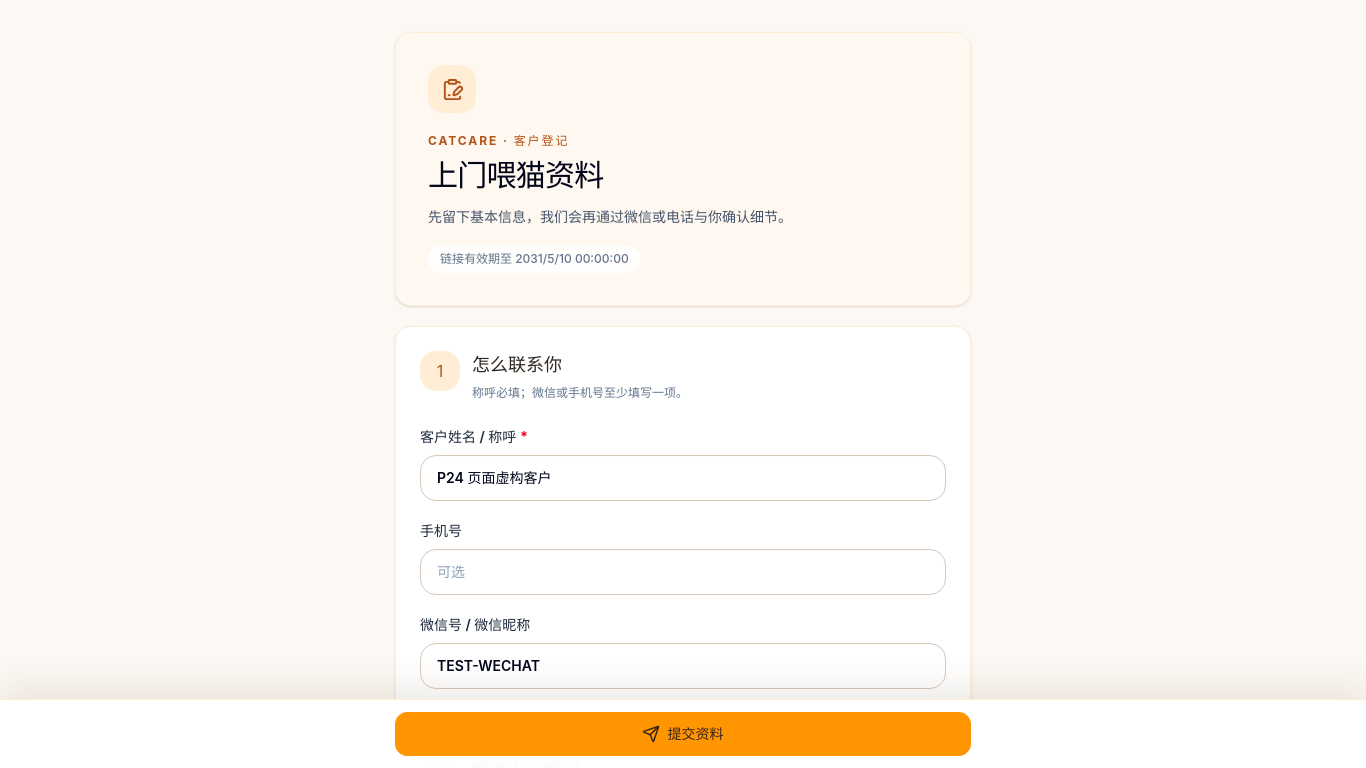
it: returns from confirmation without submitting
Expected: the field showing "P24 页面虚构客户" is shown, x1=420 y1=455 x2=946 y2=501
Click the button "提交资料": (683, 734) x1=395 y1=712 x2=971 y2=756
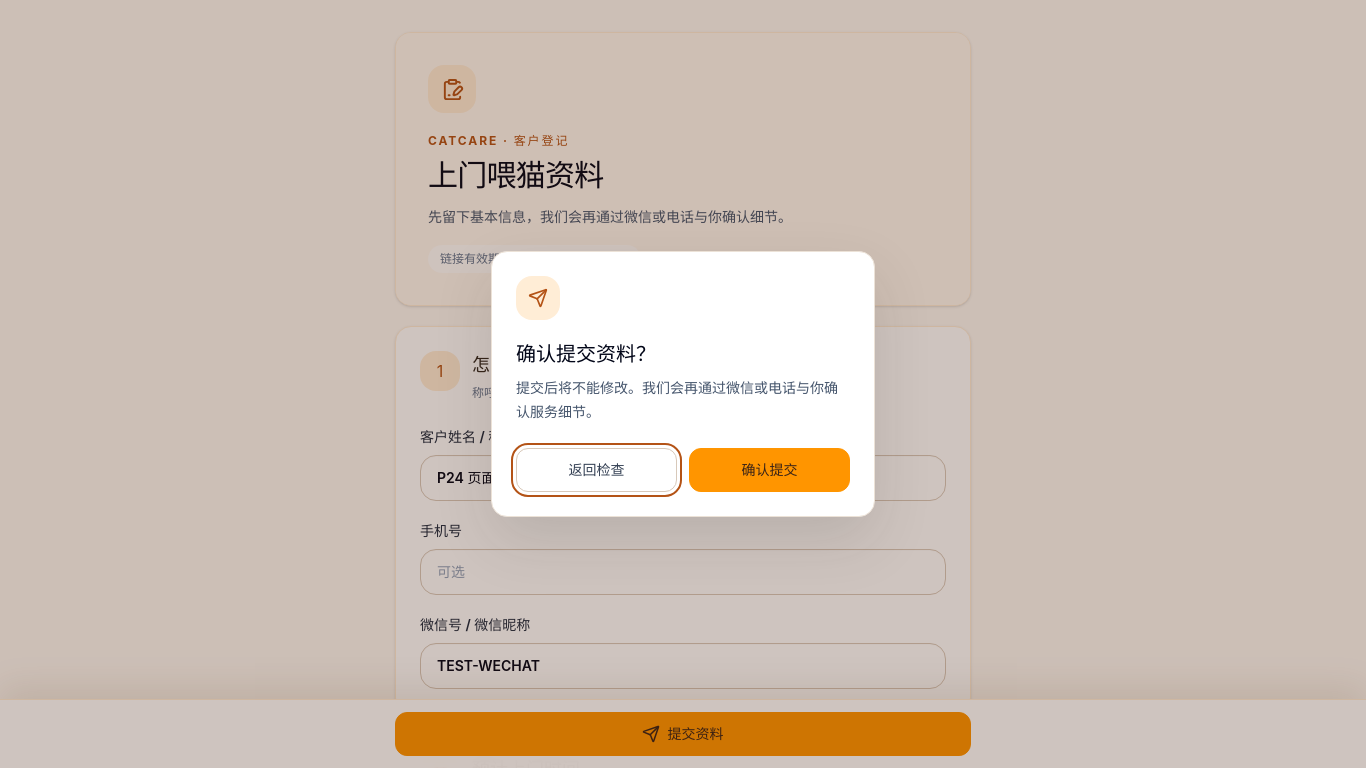
Click the button "返回检查": (596, 470) x1=516 y1=448 x2=677 y2=492
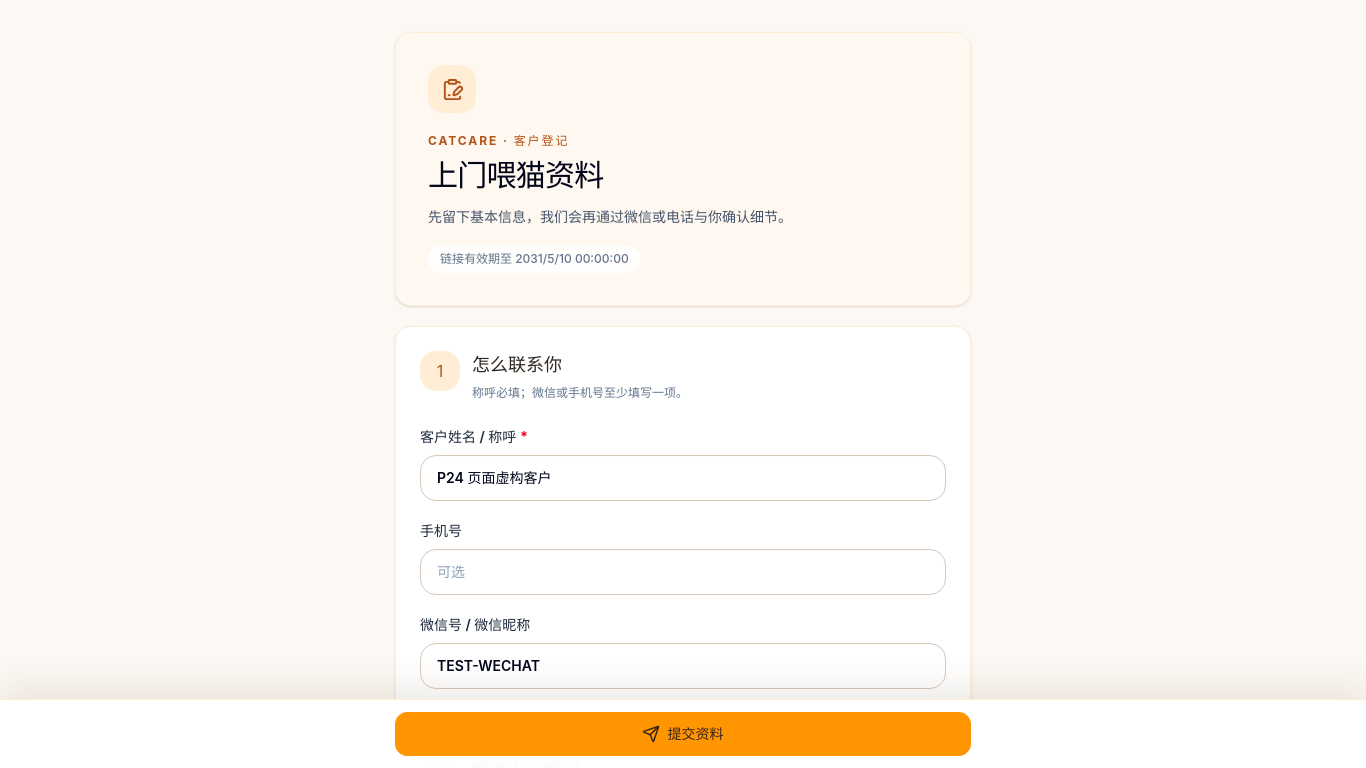
Expected: the field showing "P24 页面虚构客户" is shown, x1=420 y1=455 x2=946 y2=501
Result: the dialog is gone
